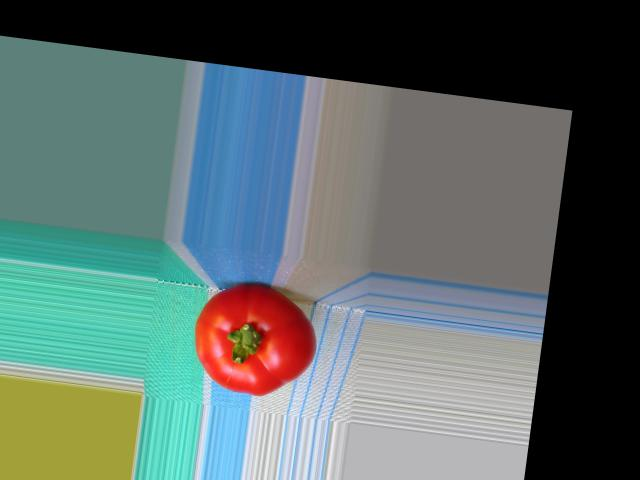tomato: (187, 276, 322, 402)
